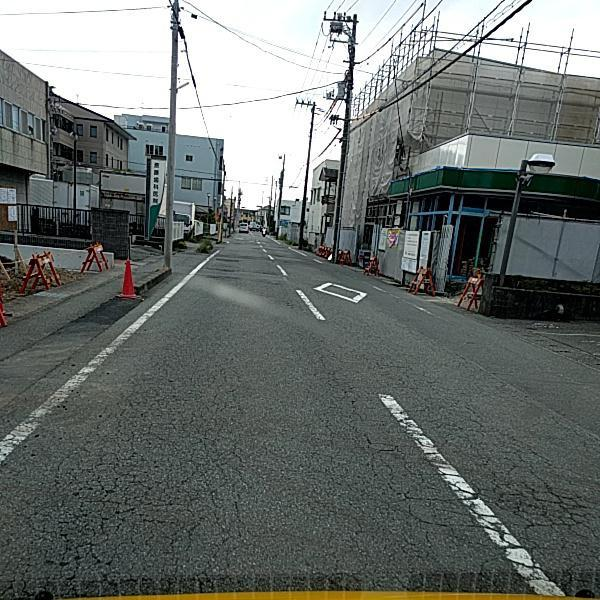D20: (3, 351, 254, 589), (338, 374, 588, 586)
